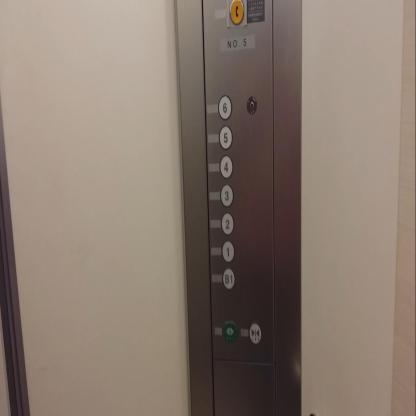1: (222, 238, 235, 263)
2: (221, 210, 234, 235)
3: (220, 183, 233, 207)
4: (219, 154, 233, 180)
5: (218, 124, 233, 150)
6: (217, 93, 232, 120)
B1: (222, 266, 235, 290)
call: (229, 0, 243, 24)
close: (249, 322, 262, 344)
open: (223, 320, 237, 344)
